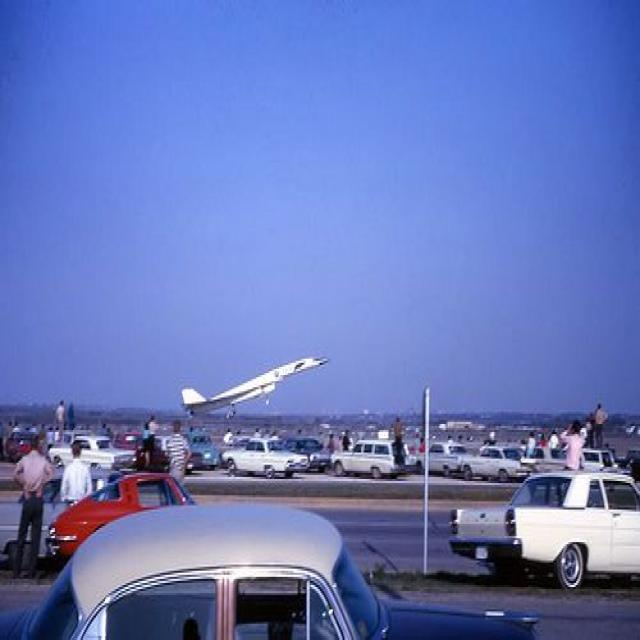MIL_Plane: (179, 355, 333, 422)
